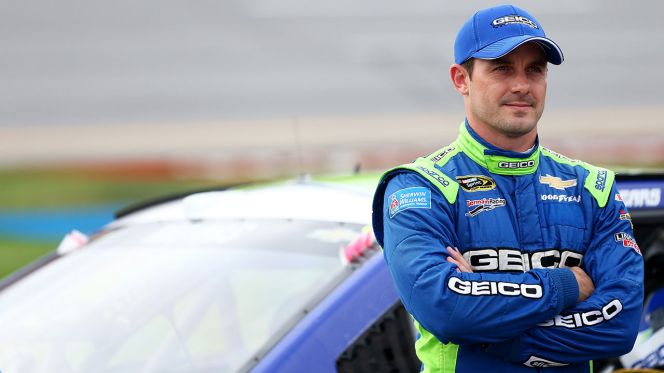Geico: (465, 244, 585, 272), (445, 273, 545, 300)
